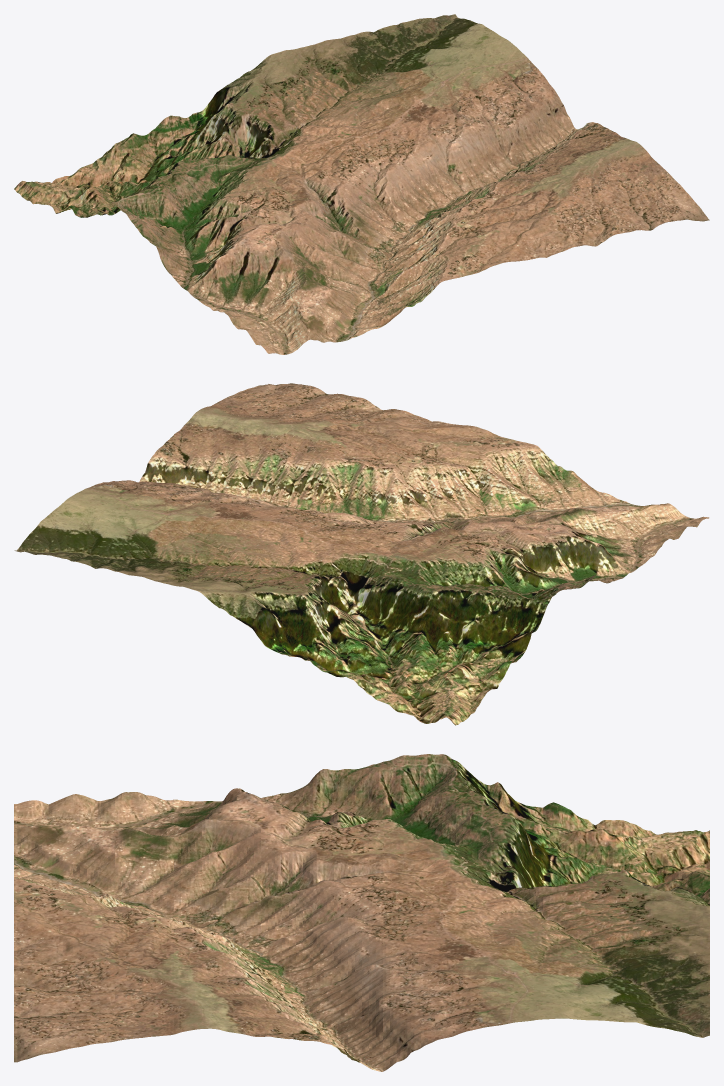
The model's file is terrain.glb.
3 renders of one model, top to bottom at view 1: azimuth 30°, elevation 25°; view 2: azimuth 150°, elevation 25°; view 3: azimuth 270°, elevation 25°, orthographic. The views are drawn at different scales.
Size of the model in its own units: 12000 by 2214 by 12000.
Materials: 1 (1 with a texture image).
